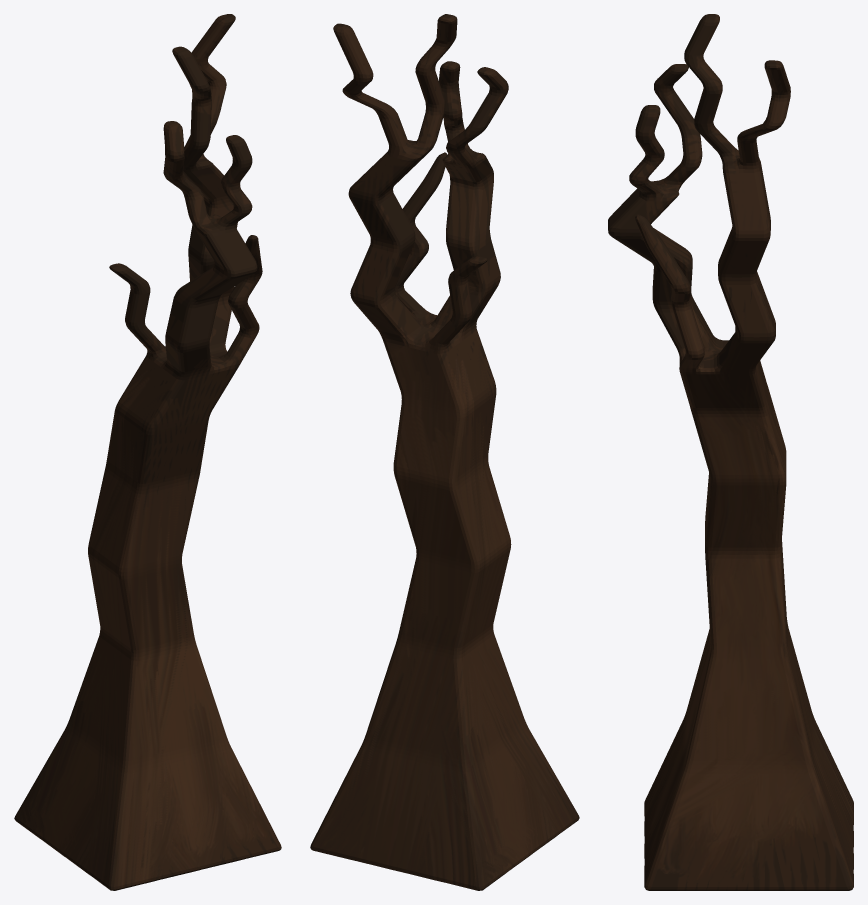
The model's file is tree1.fbx.
3 views of the same model, side by side, from view 1: azimuth 30°, elevation 25°; view 2: azimuth 150°, elevation 25°; view 3: azimuth 270°, elevation 25° (orthographic). The views are drawn at different scales.
Parts seen in each view (by area): view 1: Cube.029; view 2: Cube.029; view 3: Cube.029.
Boxes of the visible parts, x1=… form: Cube.029: x1=14, y1=14, x2=281, y2=890; Cube.029: x1=310, y1=14, x2=579, y2=890; Cube.029: x1=608, y1=14, x2=853, y2=890.
Size of the model in its own units: 376 by 1557 by 413.
1 material, 1 textured.
